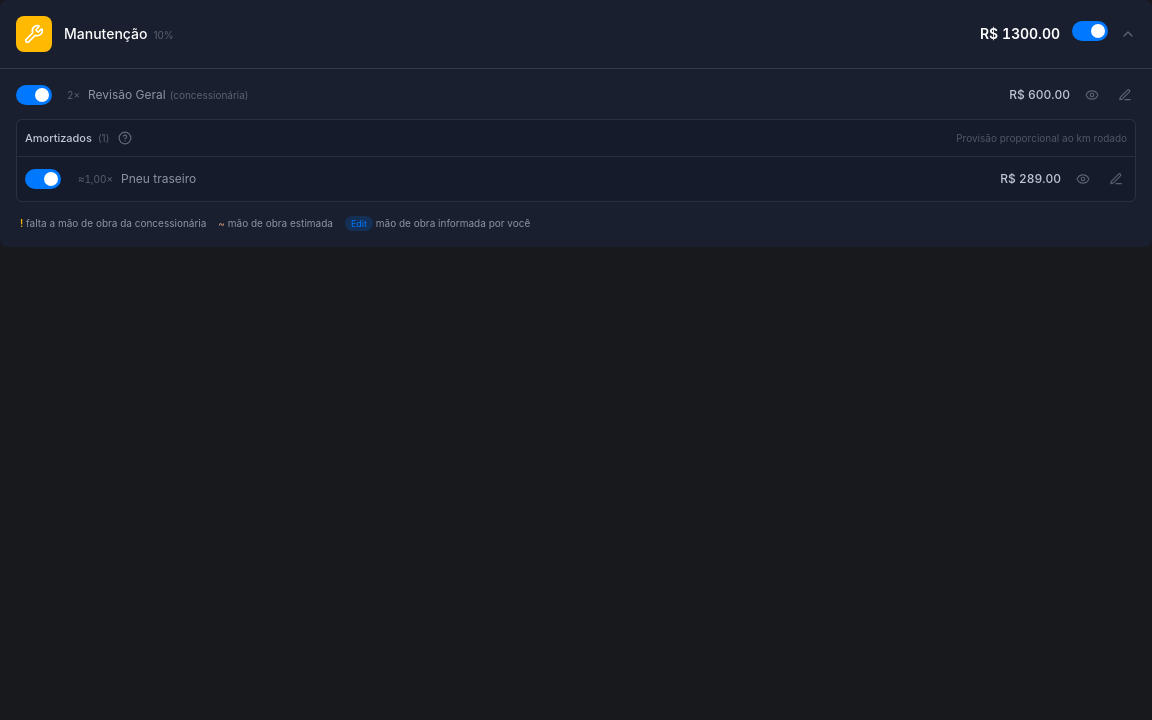
Scenario: SecaoManutencao › abre o popover da Revisão Geral pelo botão olho
Click the button named "Ver detalhes da Revisão Geral". click: (1092, 95)
box: [1078, 81, 1106, 109]
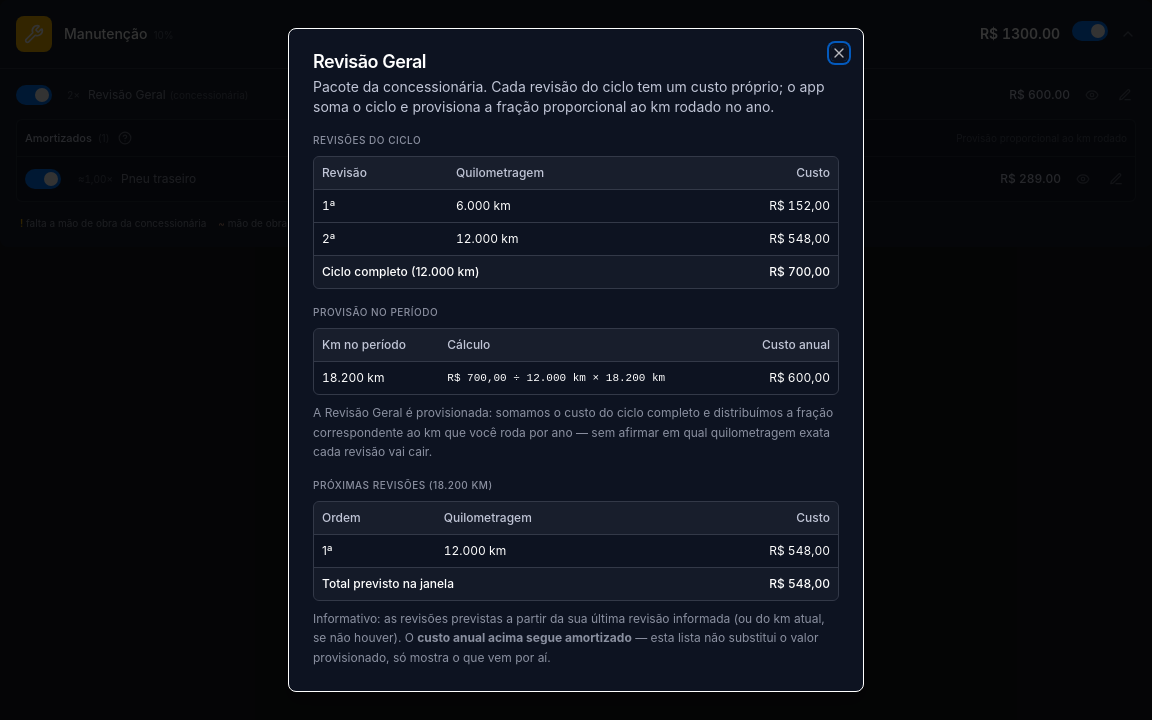
Result: the text "Revisões do ciclo" is shown at [313, 134, 421, 146]
Result: the text "Próximas revisões (18.200 km)" is shown at [313, 478, 493, 490]
